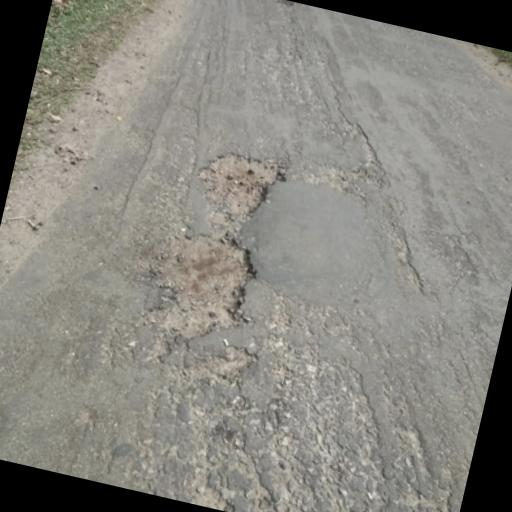pothole: (129, 218, 268, 360), (185, 138, 294, 236)
